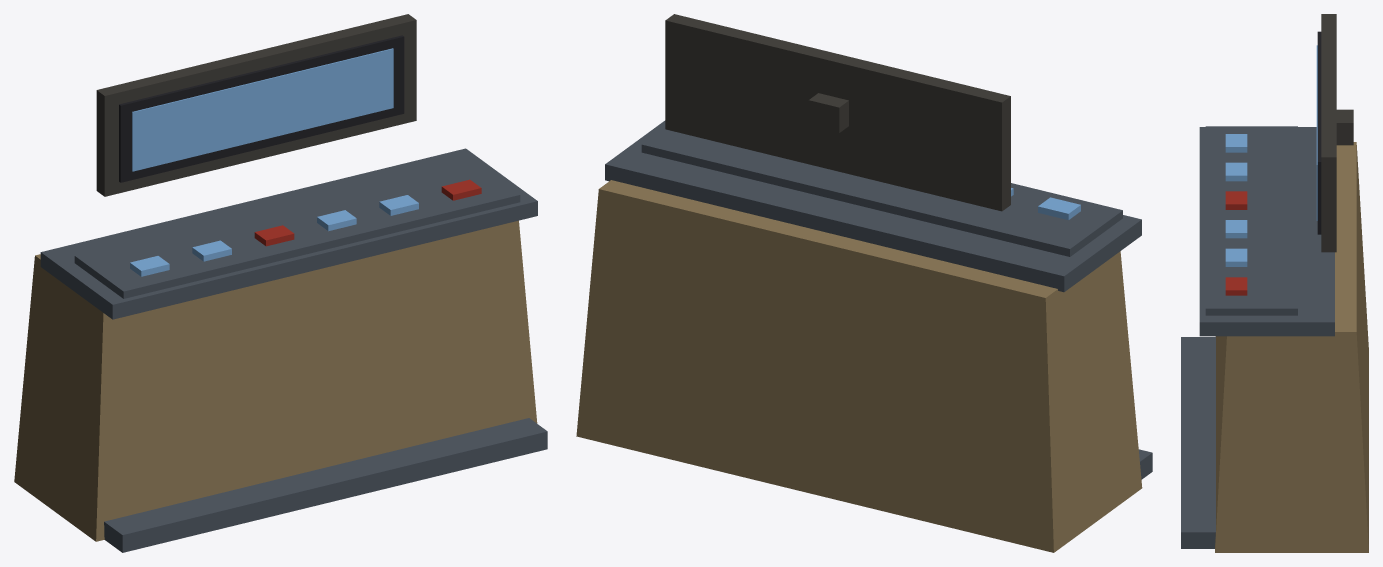
The model's file is separatist_console.glb.
3 renders of one model, left to right at view 1: azimuth 30°, elevation 25°; view 2: azimuth 150°, elevation 25°; view 3: azimuth 270°, elevation 25°, orthographic. The views are drawn at different scales.
Parts seen in each view (by area): view 1: separatist_console; view 2: separatist_console; view 3: separatist_console.
Boxes of the visible parts, x1,y1,x2,y2 form: separatist_console: [14, 14, 547, 552]; separatist_console: [576, 14, 1152, 552]; separatist_console: [1181, 14, 1368, 552].
Size of the model in its own units: 1.56 by 1.31 by 0.61.
